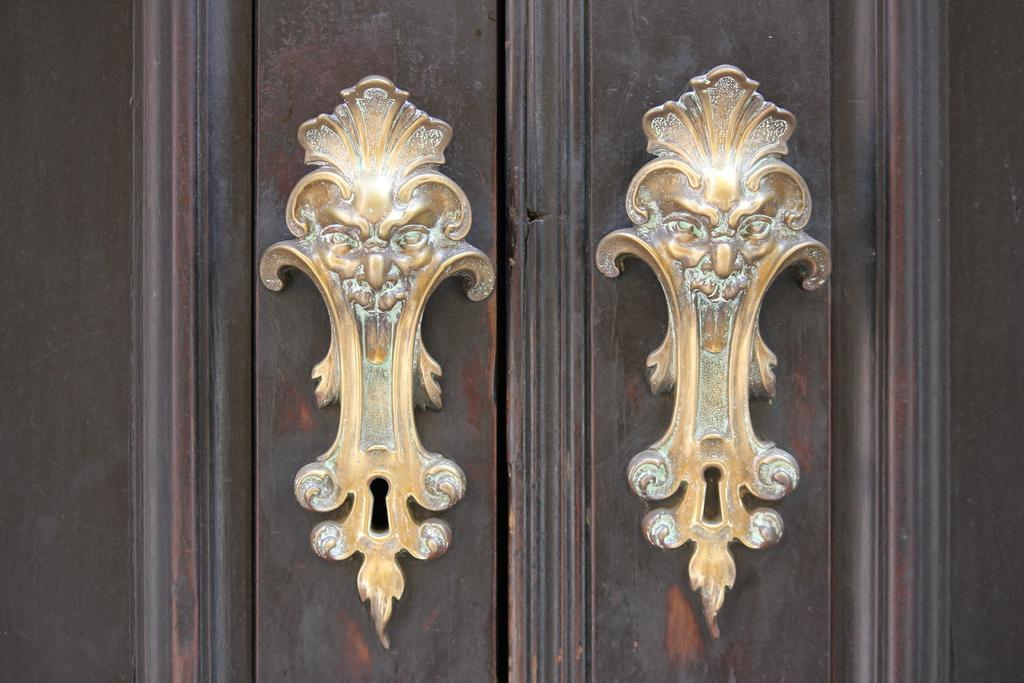door: (6, 28, 498, 683), (525, 36, 1004, 683)
handle: (596, 66, 830, 628), (262, 83, 498, 638)
